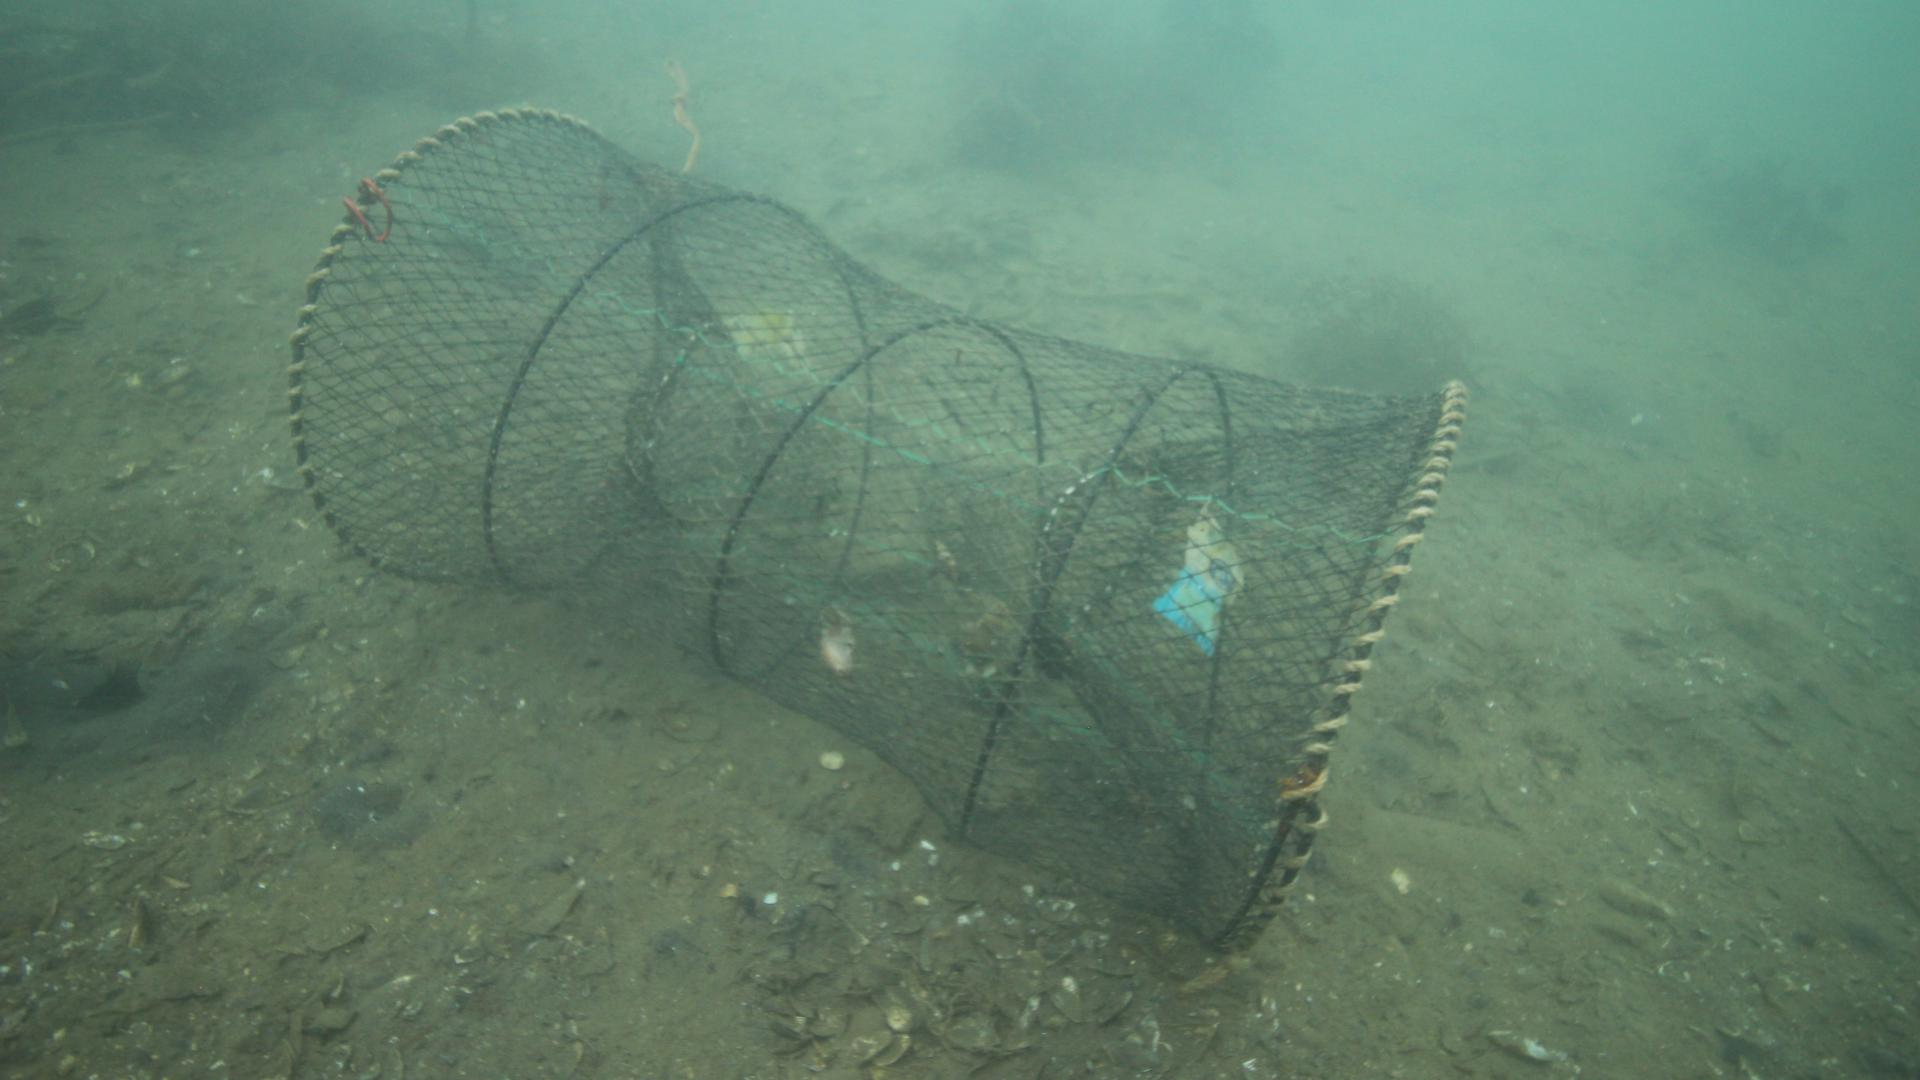bundle of ropes: (657, 53, 702, 178)
spring fish trap: (285, 102, 1472, 959)
